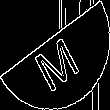M_NW: (27, 22, 83, 88)
